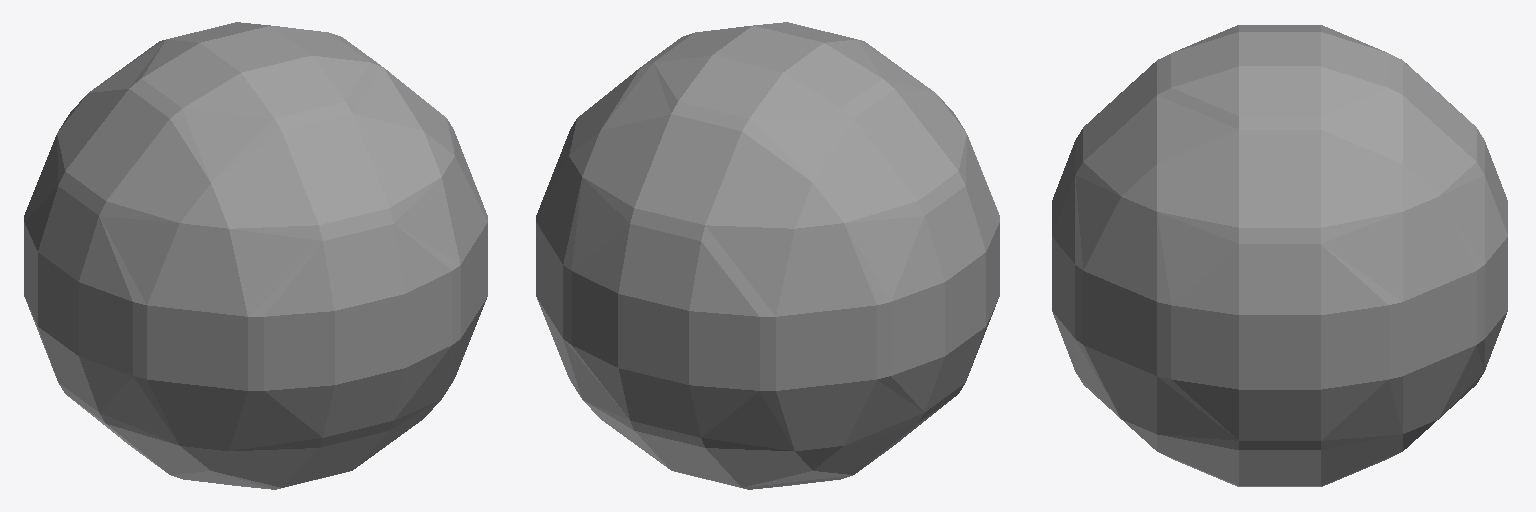
The picture shows the model from 3 angles: view 1: azimuth 30°, elevation 25°; view 2: azimuth 150°, elevation 25°; view 3: azimuth 270°, elevation 25°; orthographic projection.
Parts seen in each view (by area): view 1: Mball.001_Mesh.001; view 2: Mball.001_Mesh.001; view 3: Mball.001_Mesh.001.
Boxes of the visible parts, box(x1,y1,x2,y2) form: Mball.001_Mesh.001: box(24, 22, 487, 489); Mball.001_Mesh.001: box(536, 22, 999, 489); Mball.001_Mesh.001: box(1052, 25, 1507, 486).
Size of the model in its own units: 1.12 by 1.12 by 1.12.